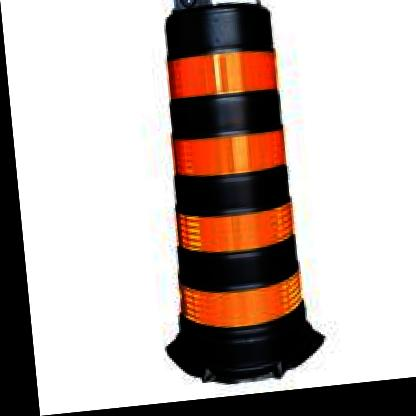obstacle: (148, 3, 309, 372)
